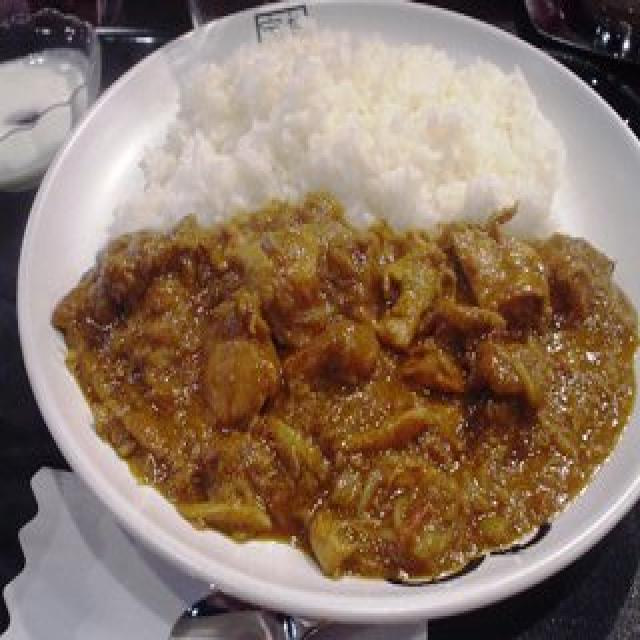牛肉菜式: (16, 0, 640, 624)
